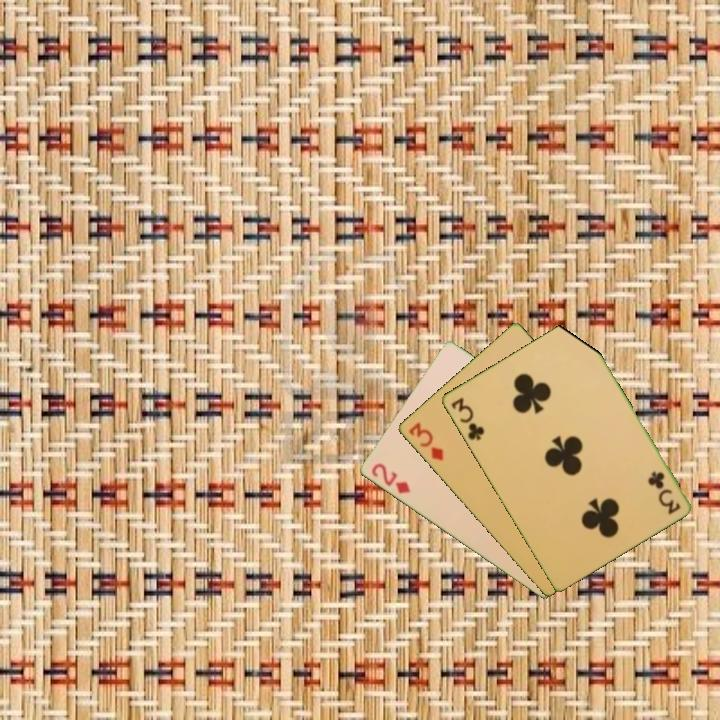2d: (367, 459, 413, 497)
3c: (447, 394, 487, 444), (645, 467, 683, 517)
3d: (404, 418, 446, 464)
